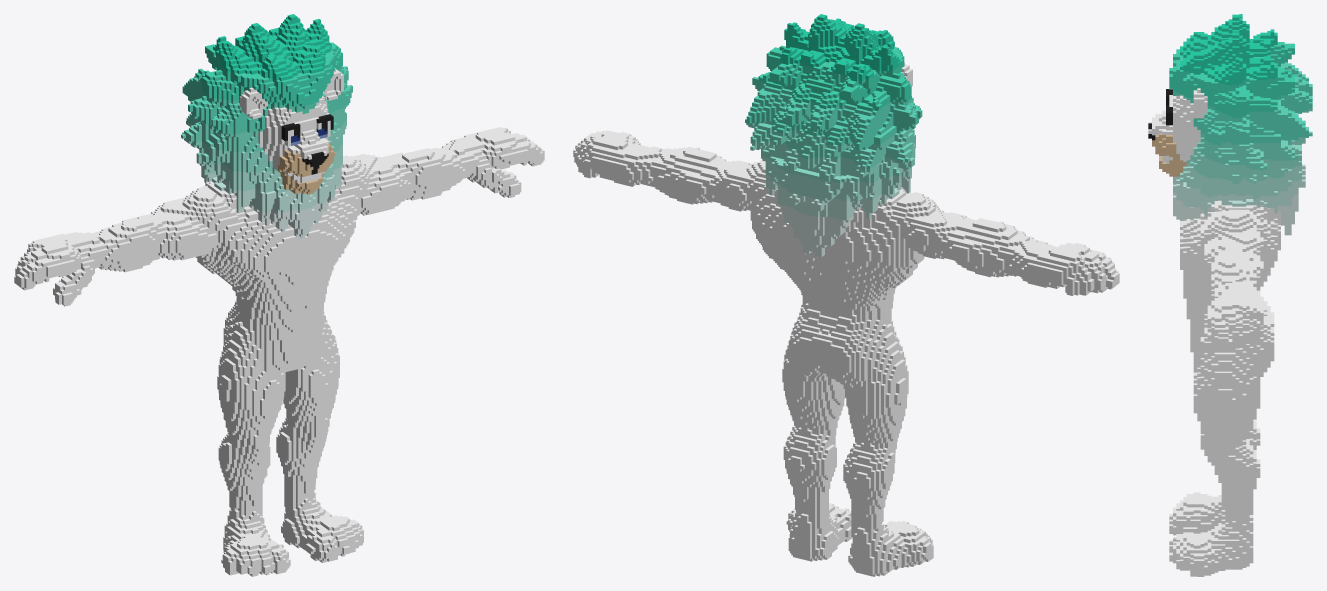
Rendered from 354-DoYmAgP3.glb.
3 renders of one model, left to right at view 1: azimuth 30°, elevation 25°; view 2: azimuth 150°, elevation 25°; view 3: azimuth 270°, elevation 25°, orthographic. The views are drawn at different scales.
Visible parts, largest first — view 1: big_smile; view 2: big_smile; view 3: big_smile.
Part boxes in pixels (bbox=[...]): big_smile: bbox=[14, 14, 544, 576]; big_smile: bbox=[573, 14, 1119, 576]; big_smile: bbox=[1148, 14, 1312, 576].
Size of the model in its own units: 17.2 by 16.5 by 4.7.
4 materials, 4 textured.
